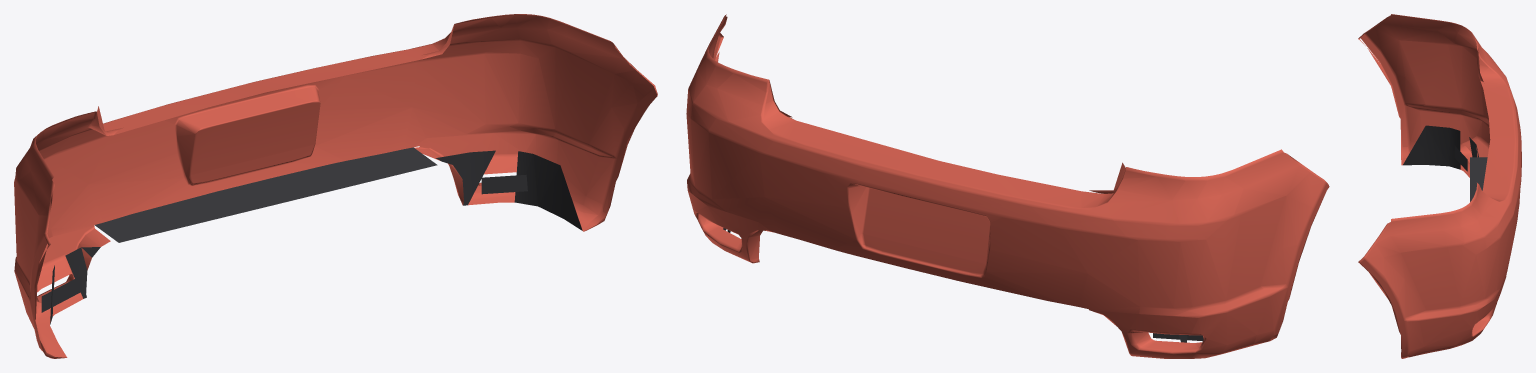
File: wendtStrom_rearBumper_sectioned.glb
3 renders of one model, left to right at view 1: azimuth 30°, elevation 25°; view 2: azimuth 150°, elevation 25°; view 3: azimuth 270°, elevation 25°, orthographic. The views are drawn at different scales.
Visible parts, largest first — view 1: rearBumper_sectioned; view 2: rearBumper_sectioned; view 3: rearBumper_sectioned.
Part boxes in pixels (<box>): rearBumper_sectioned: <box>14,14,657,358</box>; rearBumper_sectioned: <box>686,14,1329,358</box>; rearBumper_sectioned: <box>1358,14,1521,358</box>.
Bounding box in the file's own units: 1.7 × 0.5188 × 0.5232.
